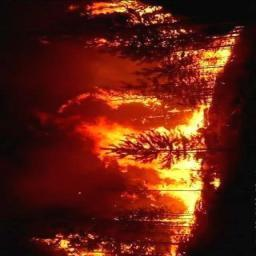Large fire: (29, 0, 234, 255)
